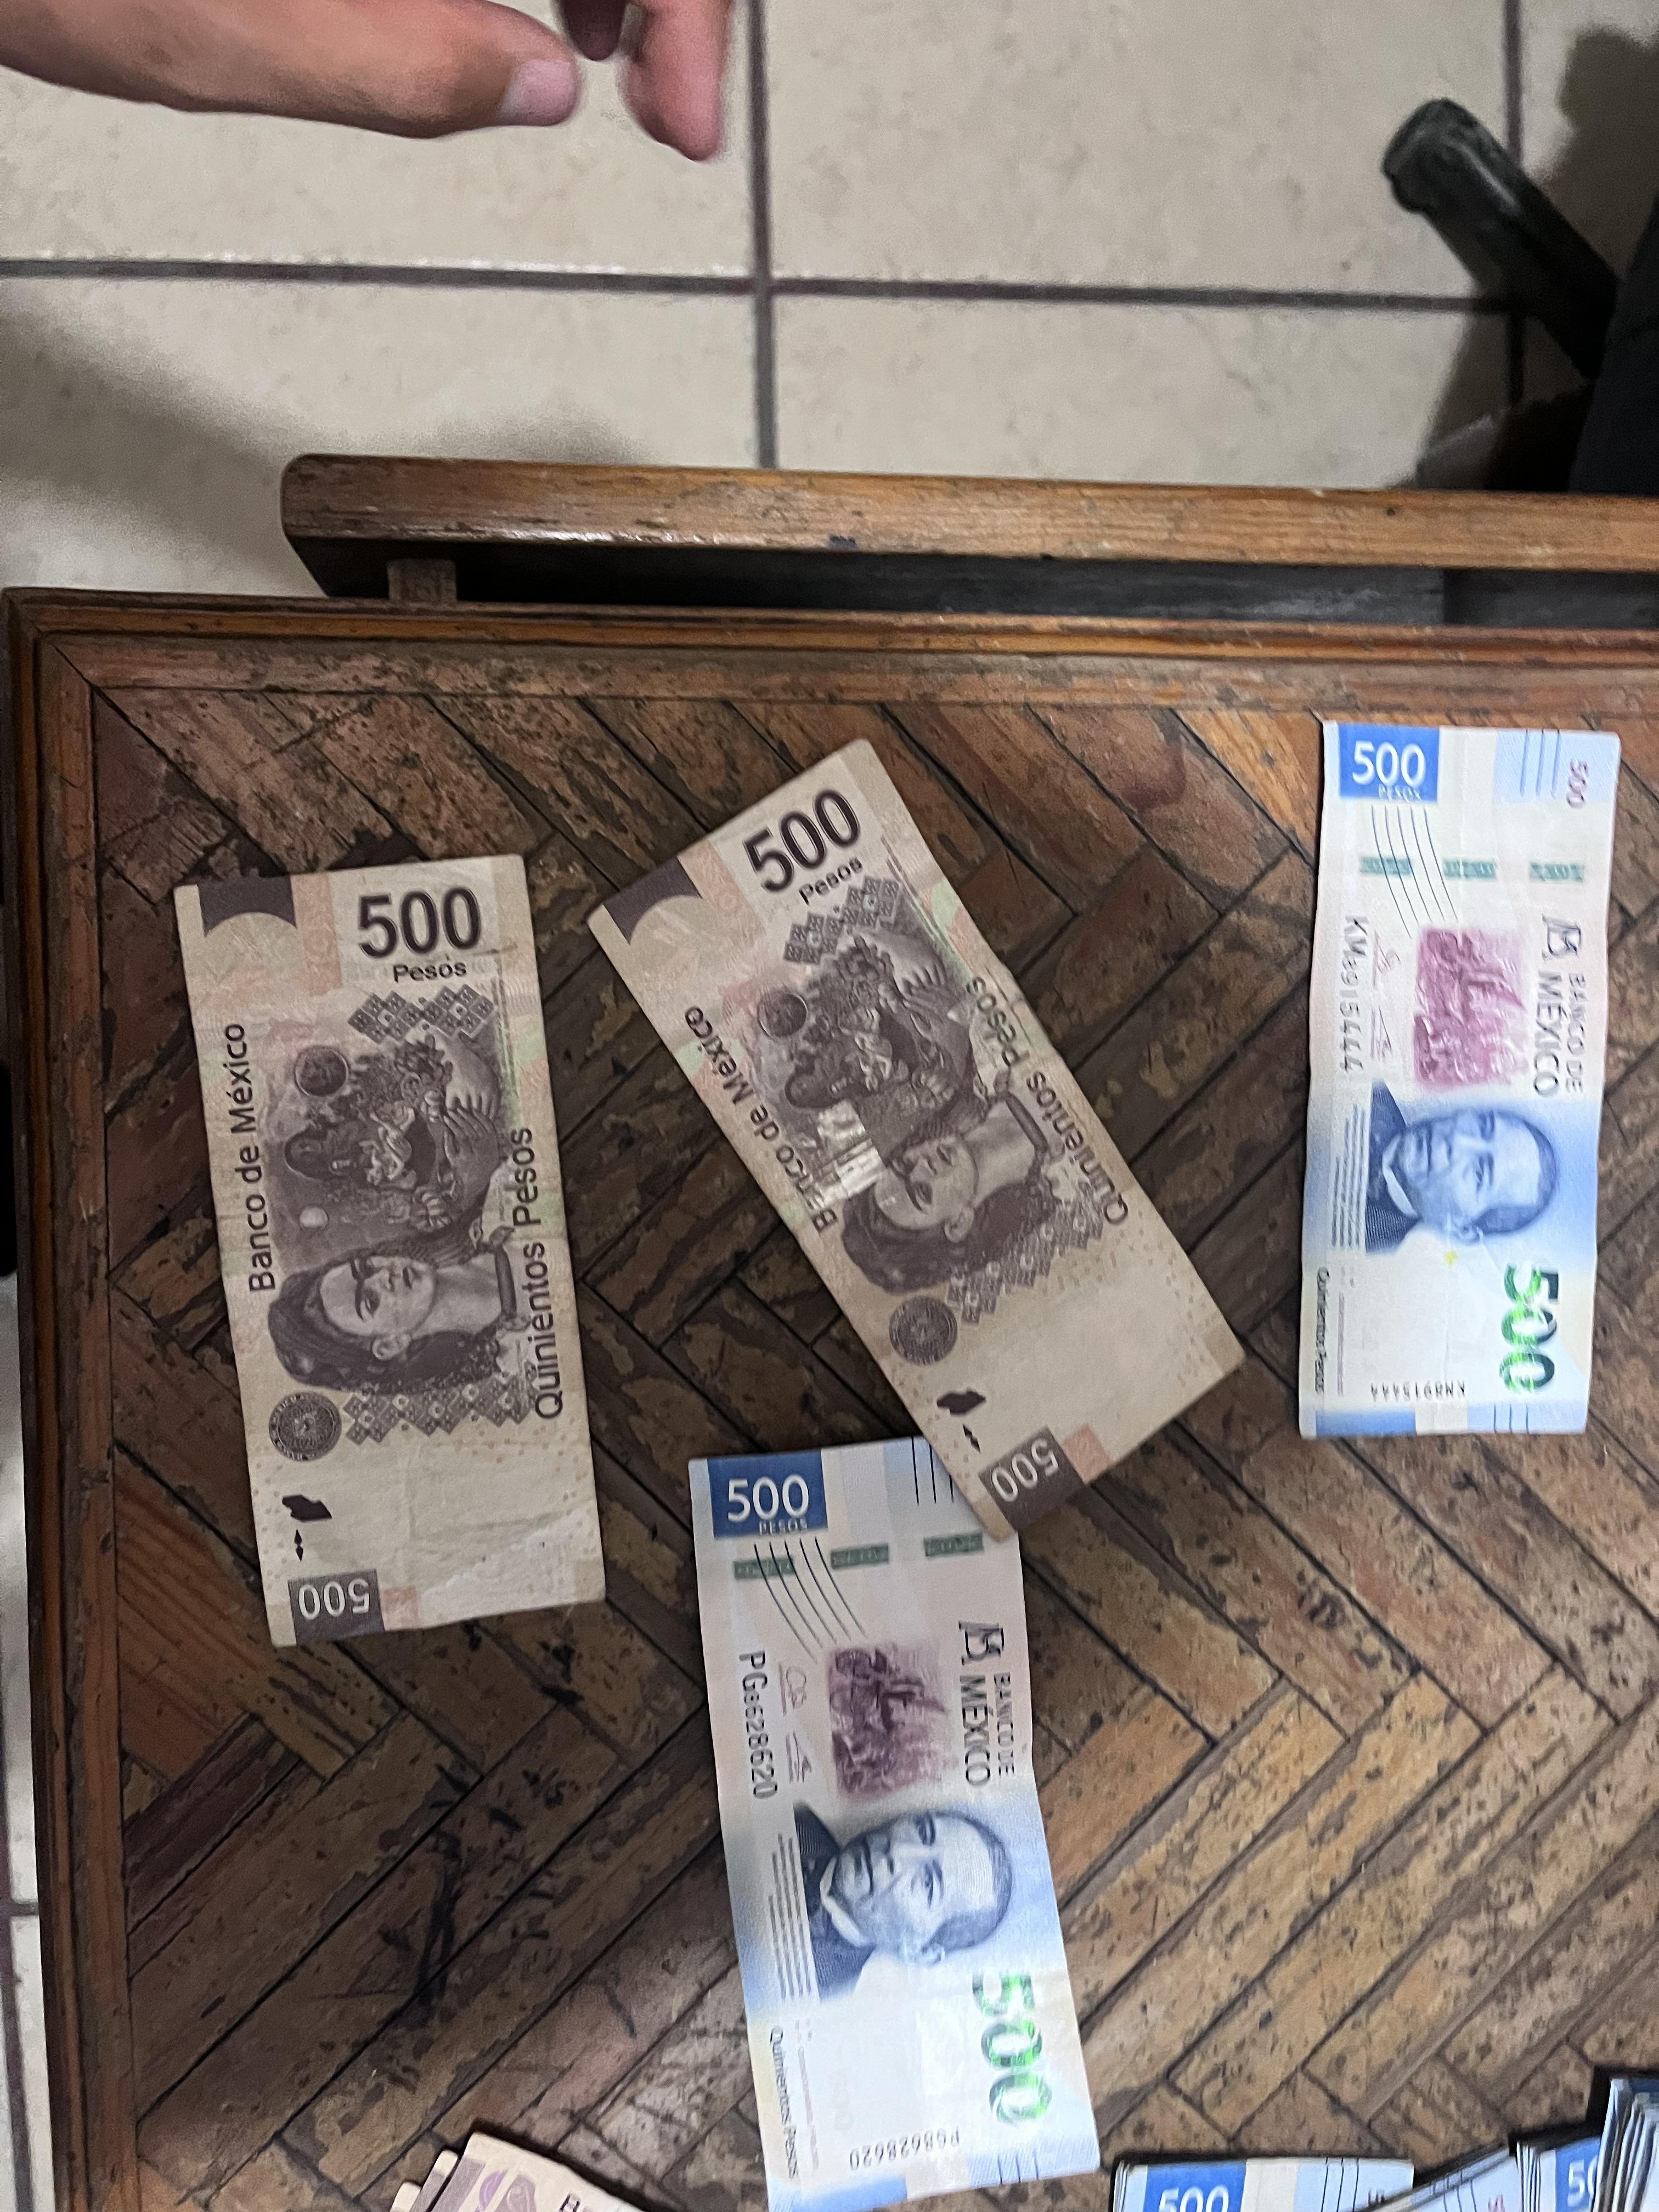500: (586, 742, 1243, 1533), (162, 806, 606, 1658)
500 nuevo: (683, 1439, 1101, 2212), (1297, 714, 1622, 1447)
